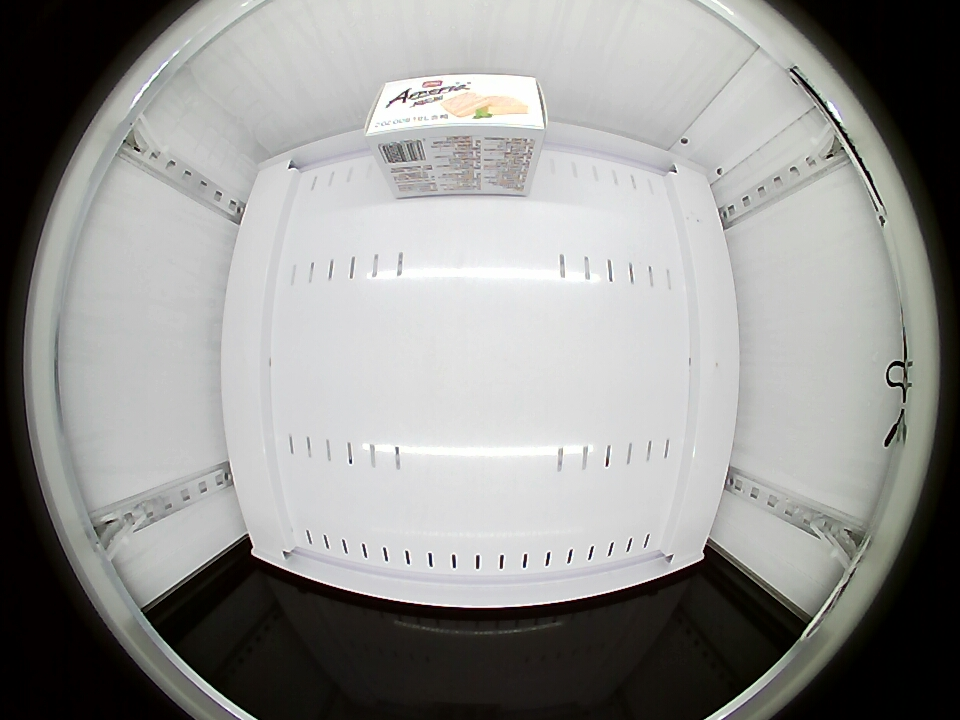meiniye: (363, 73, 546, 165)
